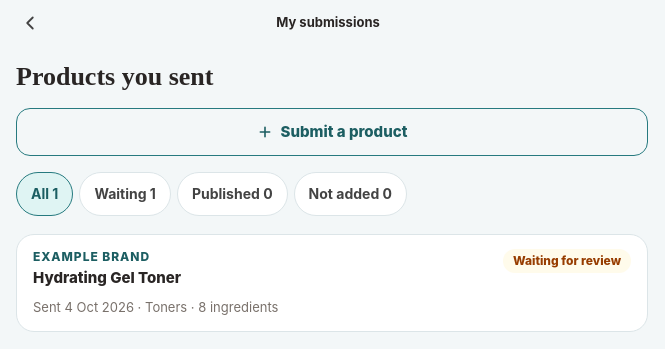
Test case: src/views/MySubmissionsView.vue › list and tabs (render) › says a status tab is empty rather than showing a blank panel
Click the tab "Published 0" at (232, 194), box left=177, top=172, right=288, bottom=216
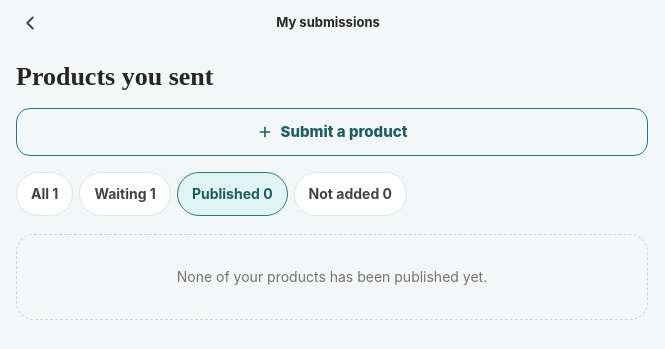
Now no list items with class "submission-card" are shown
Now the text with class "empty-tab" reads "None of your products has been published yet.", box left=177, top=268, right=487, bottom=285
